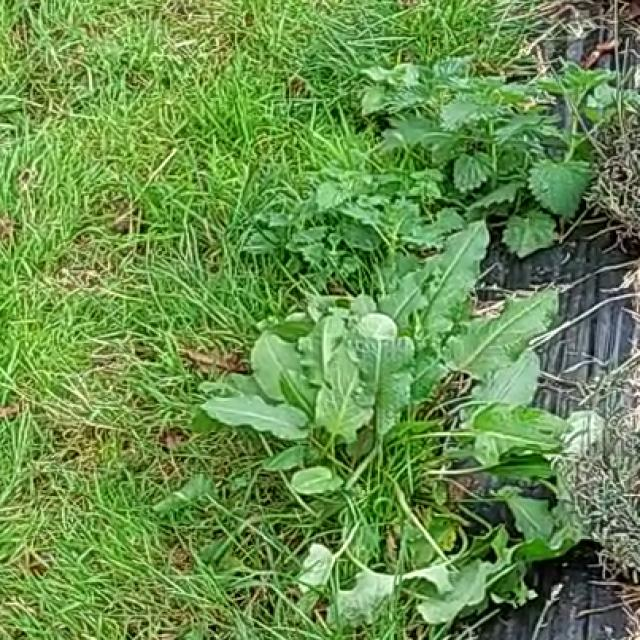organic waste: (232, 257, 640, 594)
